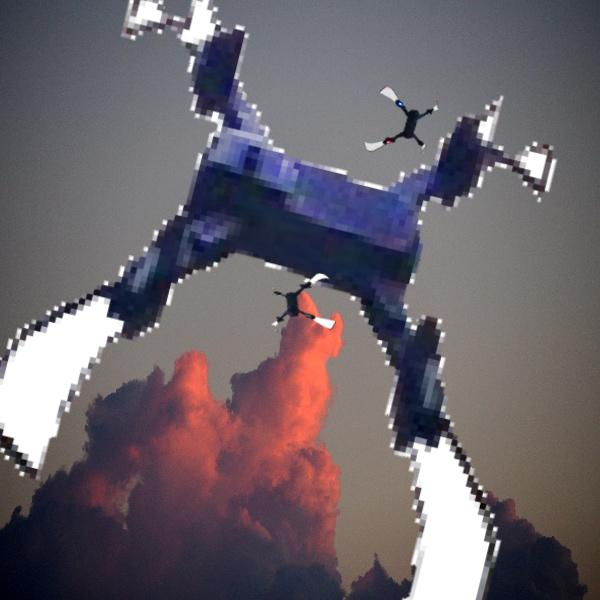drone: (365, 86, 442, 163), (268, 266, 343, 341)
